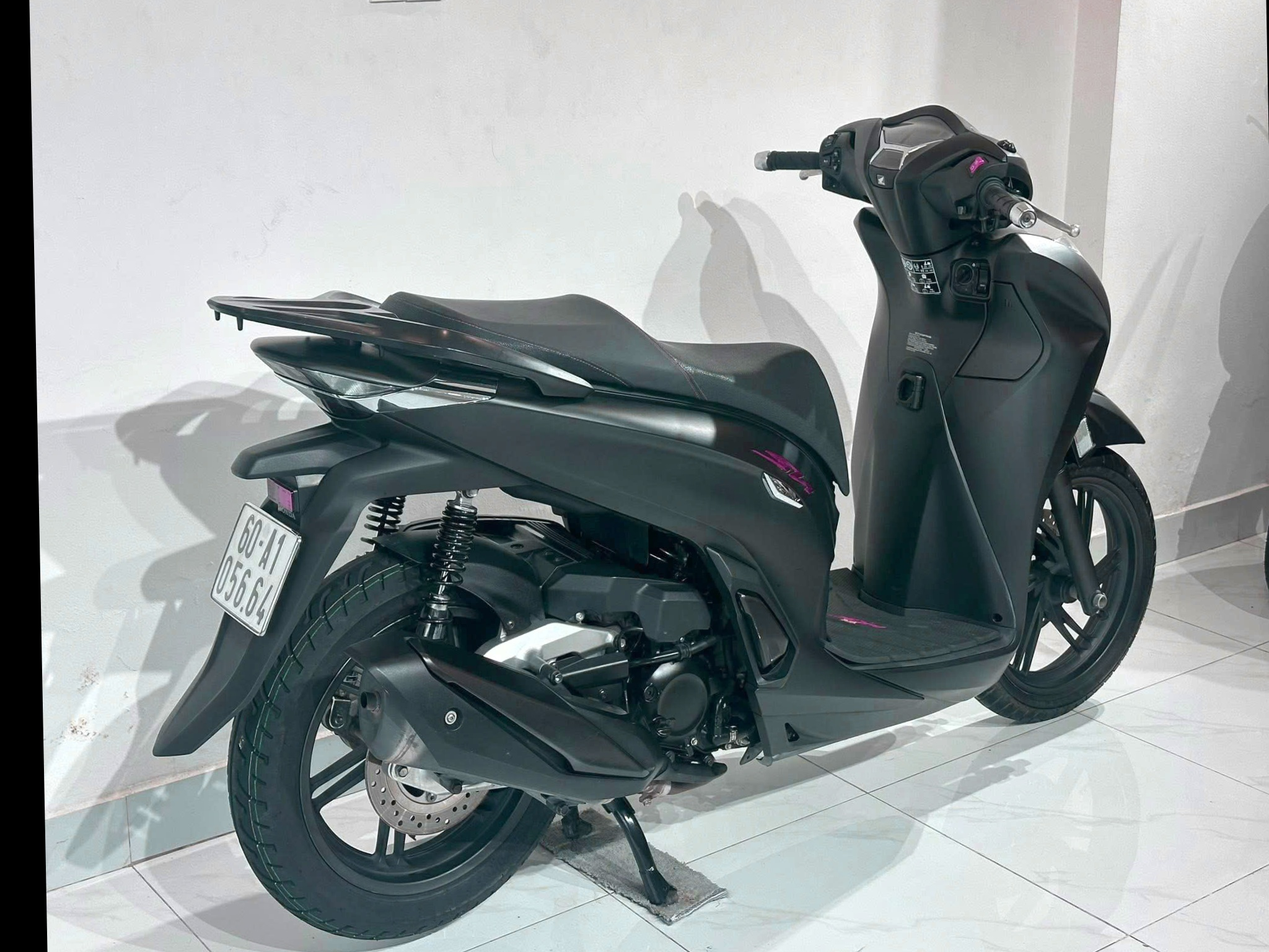Bien-so: (167, 536, 263, 678)
